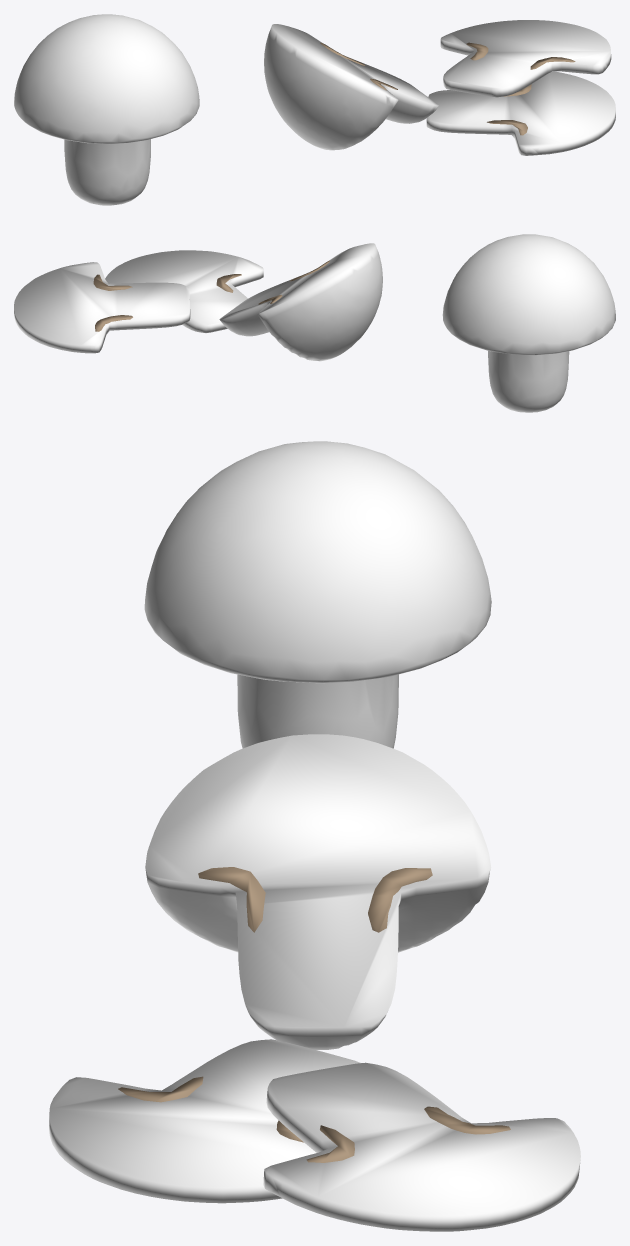
File: pieczarki.glb
The picture shows the model from 3 angles, top to bottom: view 1: azimuth 30°, elevation 25°; view 2: azimuth 150°, elevation 25°; view 3: azimuth 270°, elevation 25°; orthographic projection. The views are drawn at different scales.
Visible parts, largest first — view 1: Sphere.003, Sphere; view 2: Sphere.003, Sphere; view 3: Sphere.003, Sphere.
Part boxes in pixels (x1=…): Sphere.003: x1=264, y1=20, x2=615, y2=155; Sphere: x1=14, y1=14, x2=199, y2=205; Sphere.003: x1=14, y1=243, x2=382, y2=361; Sphere: x1=442, y1=234, x2=615, y2=412; Sphere.003: x1=49, y1=734, x2=580, y2=1231; Sphere: x1=144, y1=441, x2=491, y2=748.
Bounding box in the file's own units: 7.31 × 2.01 × 3.02.
4 materials, 4 textured.
